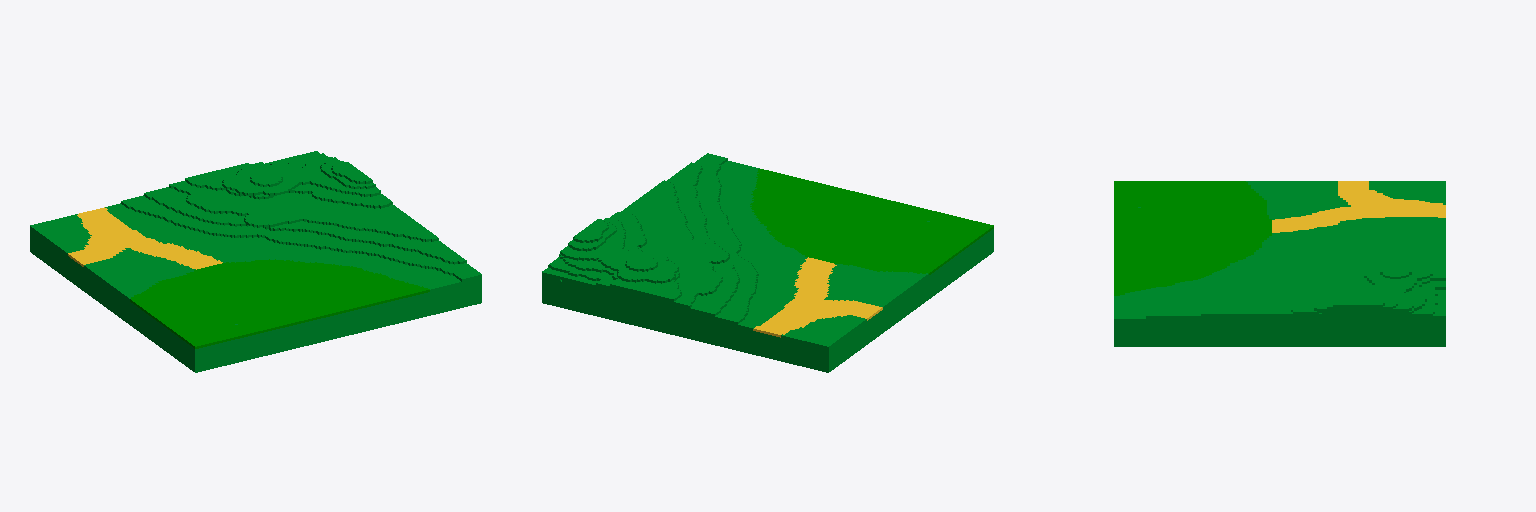
3 views of the same model, side by side, from view 1: azimuth 30°, elevation 25°; view 2: azimuth 150°, elevation 25°; view 3: azimuth 270°, elevation 25° (orthographic).
Visible parts, largest first — view 1: object 1; view 2: object 1; view 3: object 1.
Boxes of the visible parts, x1,y1,x2,y2 form: object 1: [30, 151, 481, 372]; object 1: [542, 153, 993, 372]; object 1: [1114, 181, 1445, 346].
Bounding box in the file's own units: 12.6 × 1.8 × 12.6.
Materials: 1 (1 with a texture image).